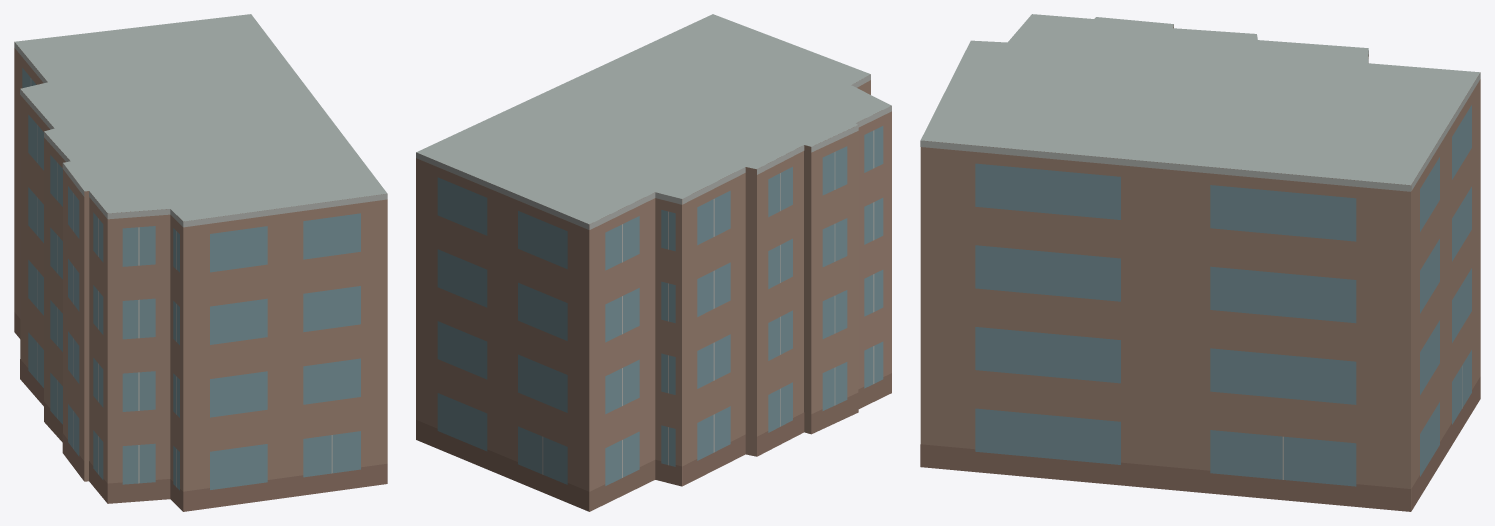
The model's file is survey-upis-32830851.glb.
3 renders of one model, left to right at view 1: azimuth 30°, elevation 25°; view 2: azimuth 150°, elevation 25°; view 3: azimuth 270°, elevation 25°, orthographic. The views are drawn at different scales.
Visible parts, largest first — view 1: survey-upis-32830851.tmp; view 2: survey-upis-32830851.tmp; view 3: survey-upis-32830851.tmp.
Part boxes in pixels (box(x1,y1,x2,y2)): survey-upis-32830851.tmp: box(14, 14, 387, 511); survey-upis-32830851.tmp: box(416, 14, 891, 511); survey-upis-32830851.tmp: box(920, 14, 1480, 511).
Size of the model in its own units: 13.62 by 12.1 by 18.81.
